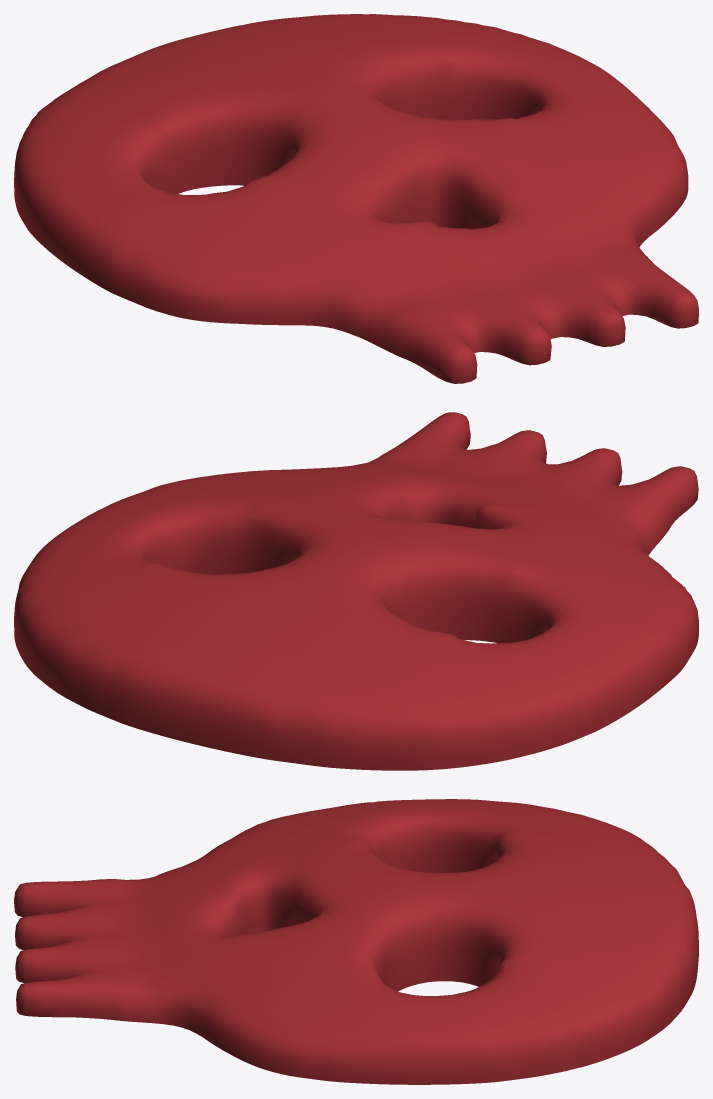
File: decoration-necromancer.glb
3 renders of one model, top to bottom at view 1: azimuth 30°, elevation 25°; view 2: azimuth 150°, elevation 25°; view 3: azimuth 270°, elevation 25°, orthographic. The views are drawn at different scales.
Visible parts, largest first — view 1: decoration_necromancer; view 2: decoration_necromancer; view 3: decoration_necromancer.
Part boxes in pixels (x1,y1,x2,y2): decoration_necromancer: (14, 14, 698, 383); decoration_necromancer: (14, 412, 698, 770); decoration_necromancer: (14, 799, 698, 1084).
Bounding box in the file's own units: 0.1612 × 0.022 × 0.184.
